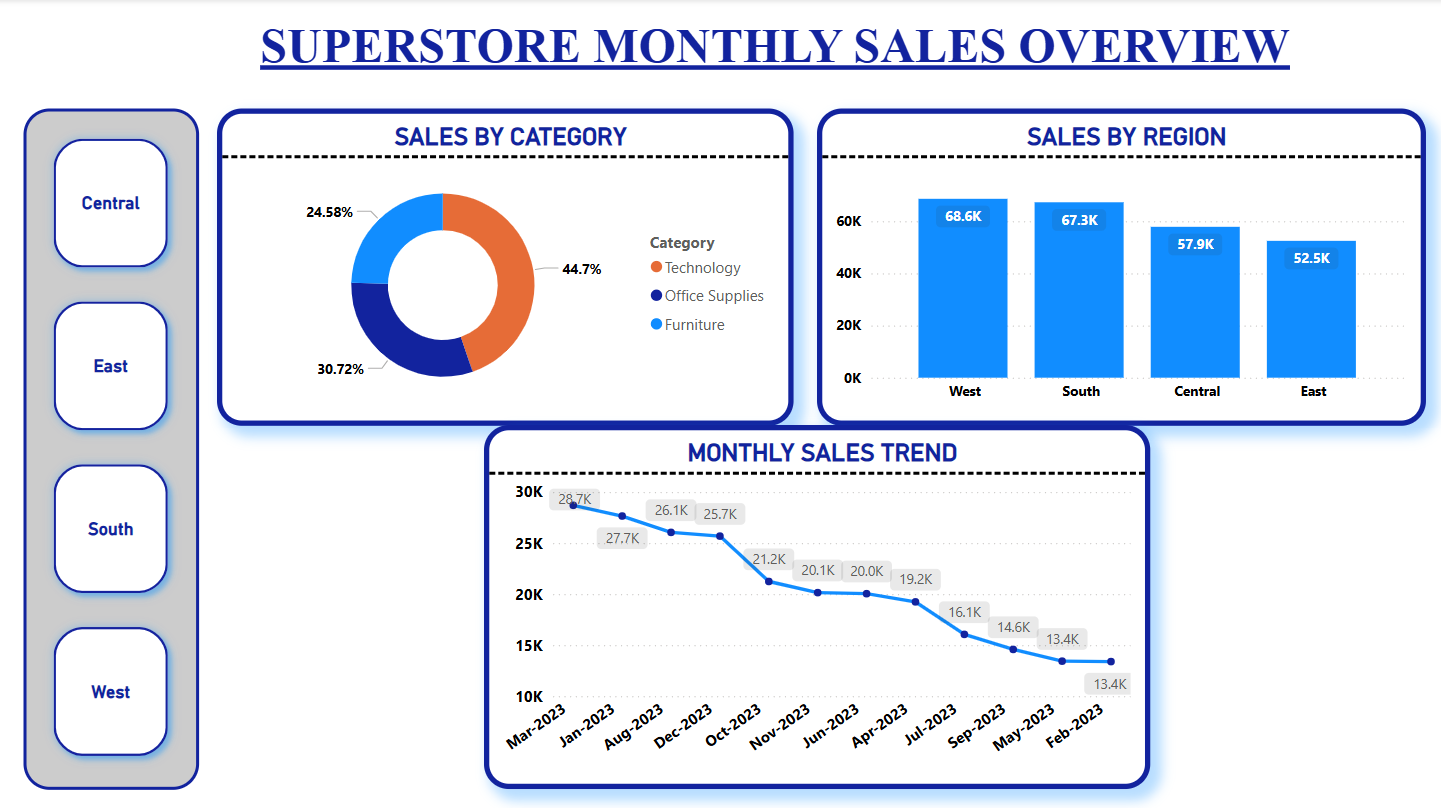

Layout of this report page (visuals, bound fields, positions):
{"tool":"powerbi","page":{"name":"Page 1","canvas":[1280,720],"ordinal":0},"visuals":[{"type":"clusteredColumnChart","title":"SALES BY REGION","fields":{"Category":["Superstore_Sample_Sales.Region"],"Y":["Sum(Superstore_Sample_Sales.Sales)"]},"box":[725,97,538.5,280.4],"z":1},{"type":"donutChart","title":"SALES BY CATEGORY","fields":{"Category":["Superstore_Sample_Sales.Category"],"Y":["Sum(Superstore_Sample_Sales.Sales)"]},"box":[193.9,97,510.2,280.4],"z":2},{"type":"advancedSlicerVisual","fields":{"Values":["Superstore_Sample_Sales.Region"]},"box":[22.4,97,155.1,602.7],"z":3},{"type":"lineChart","title":"MONTHLY SALES TREND","fields":{"Category":["Superstore_Sample_Sales.MonthYear"],"Y":["Sum(Superstore_Sample_Sales.Sales)"]},"box":[429.6,377.4,589.2,322.2],"z":4},{"type":"textbox","box":[193.8,12.1,987.3,66.6],"z":5}]}

Visuals, with their boxes in screenshot pixels (x1, y1, x2, y2), scaled from the page's 1280x720 canvas onto the 1441x808 screenshot:
"SALES BY REGION" clusteredColumnChart: [816,109,1422,424]
"SALES BY CATEGORY" donutChart: [218,109,793,424]
advancedSlicerVisual - Superstore_Sample_Sales.Region: [25,109,200,785]
"MONTHLY SALES TREND" lineChart: [484,424,1147,785]
textbox: [218,14,1330,88]
